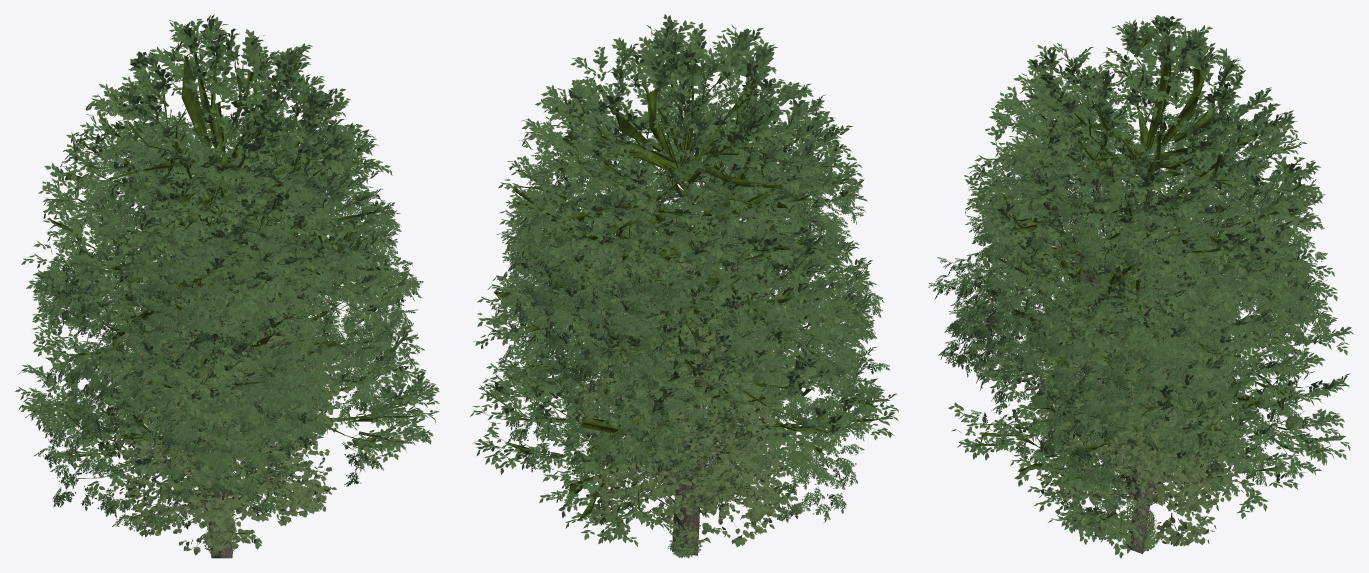
The model's file is vegetation_03.glb.
The picture shows the model from 3 angles, left to right: view 1: azimuth 30°, elevation 25°; view 2: azimuth 150°, elevation 25°; view 3: azimuth 270°, elevation 25°; orthographic projection.
Parts seen in each view (by area): view 1: prototype_025, prototype_024, prototype_027, prototype_028, prototype_026; view 2: prototype_025, prototype_024, prototype_027, prototype_028, prototype_026; view 3: prototype_025, prototype_024, prototype_027, prototype_028, prototype_026.
Part boxes in pixels (box(x1,y1,x2,y2)): prototype_025: box(15, 14, 439, 499); prototype_024: box(30, 104, 424, 558); prototype_027: box(95, 237, 354, 549); prototype_028: box(114, 295, 327, 556); prototype_026: box(107, 246, 333, 506); prototype_025: box(470, 14, 898, 546); prototype_024: box(484, 63, 889, 555); prototype_027: box(563, 244, 805, 548); prototype_028: box(580, 290, 788, 541); prototype_026: box(591, 224, 784, 549); prototype_025: box(948, 15, 1353, 558); prototype_024: box(928, 77, 1334, 553); prototype_027: box(1027, 234, 1252, 546); prototype_028: box(1030, 272, 1239, 545); prototype_026: box(1034, 239, 1261, 539).
Bounding box in the file's own units: 15.2 × 20.7 × 15.18.
14 materials, 14 textured.
